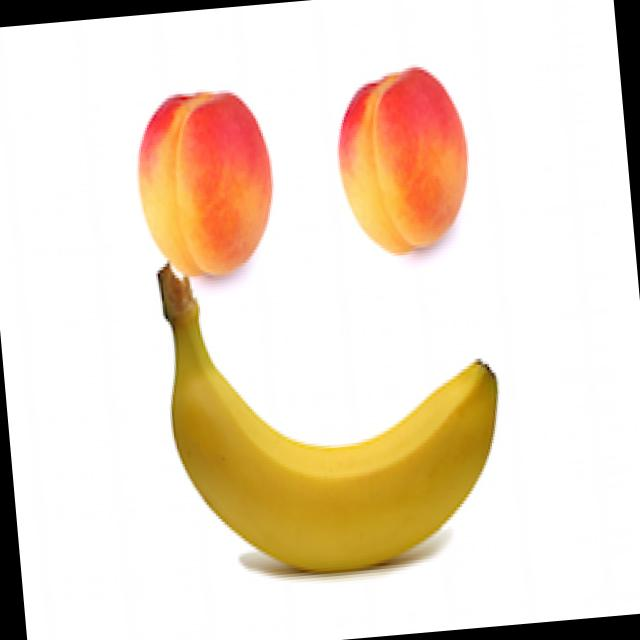banana: (155, 244, 512, 581)
